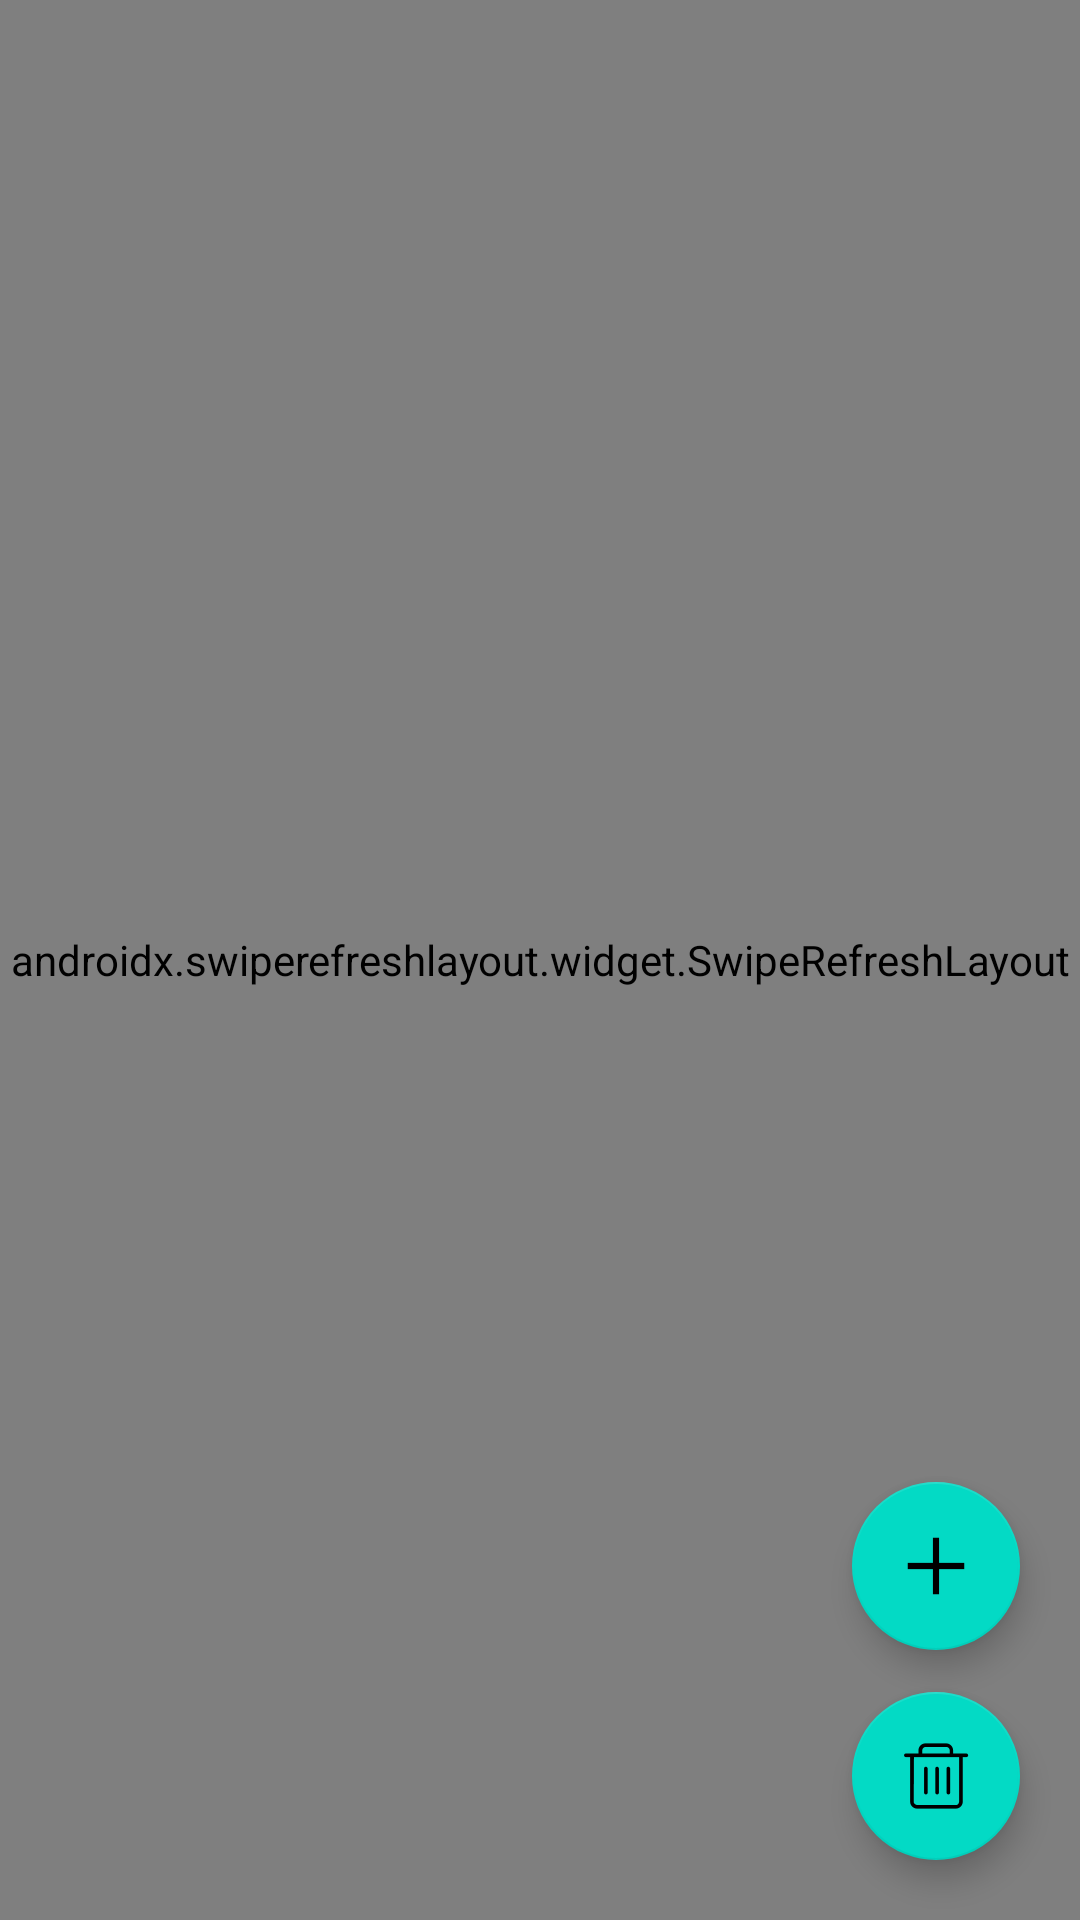

Named icons in this screenshot (1080w x 1920h) and their centers, point (x, y):
add: point (936, 1566)
delete: point (936, 1776)
